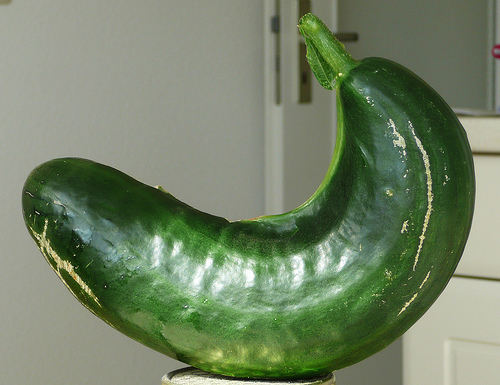cucumber: (21, 12, 476, 381)
